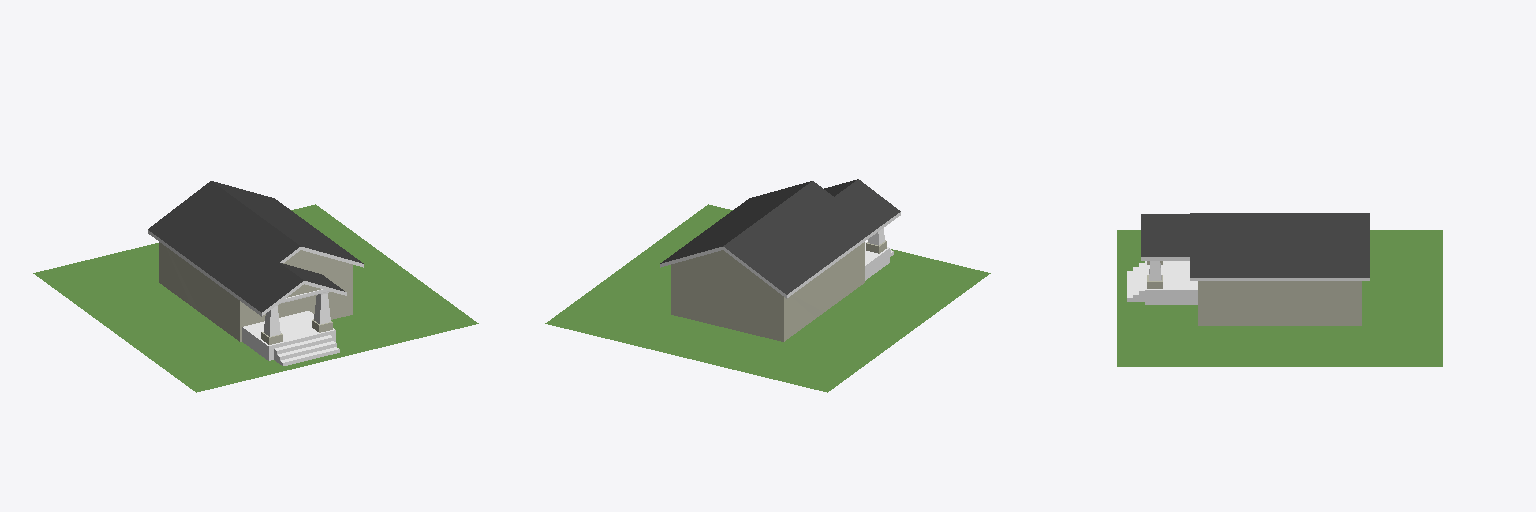
Rendered from craftsman-welded.obj.
3 views of the same model, side by side, from view 1: azimuth 30°, elevation 25°; view 2: azimuth 150°, elevation 25°; view 3: azimuth 270°, elevation 25° (orthographic).
Parts seen in each view (by area): view 1: craftsman-welded.obj; view 2: craftsman-welded.obj; view 3: craftsman-welded.obj.
Part boxes in pixels (bbox=[...]): craftsman-welded.obj: bbox=[33, 181, 478, 392]; craftsman-welded.obj: bbox=[545, 179, 990, 392]; craftsman-welded.obj: bbox=[1117, 213, 1442, 366].
Size of the model in its own units: 20 by 5.75 by 20.